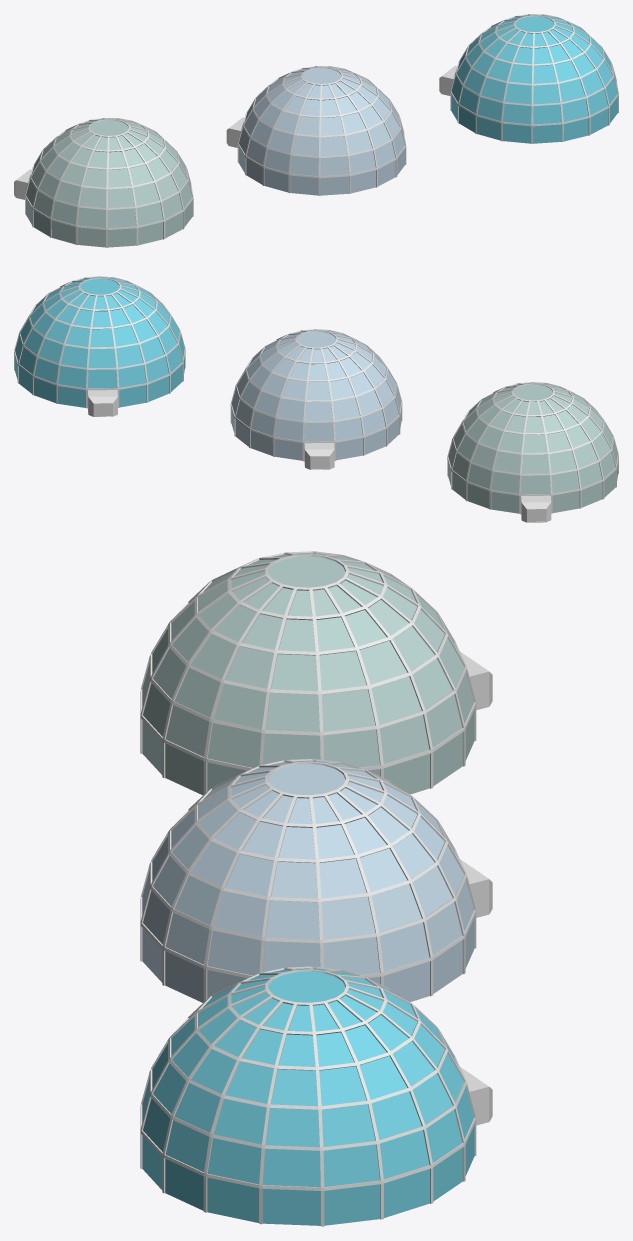
File: dome.fbx
The picture shows the model from 3 angles, top to bottom: view 1: azimuth 30°, elevation 25°; view 2: azimuth 150°, elevation 25°; view 3: azimuth 270°, elevation 25°; orthographic projection. The views are drawn at different scales.
Visible parts, largest first — view 1: Sphere.004, Sphere.003, Sphere.005; view 2: Sphere.004, Sphere.005, Sphere.003; view 3: Sphere.003, Sphere.005, Sphere.004.
Part boxes in pixels (bbox=[...]): Sphere.004: bbox=[226, 66, 406, 195]; Sphere.003: bbox=[439, 14, 618, 143]; Sphere.005: bbox=[14, 118, 193, 247]; Sphere.004: bbox=[230, 329, 402, 469]; Sphere.005: bbox=[447, 382, 618, 522]; Sphere.003: bbox=[14, 276, 185, 416]; Sphere.003: bbox=[140, 966, 492, 1226]; Sphere.005: bbox=[140, 551, 492, 795]; Sphere.004: bbox=[140, 759, 492, 1002].
Size of the model in its own units: 780 by 110 by 208.
